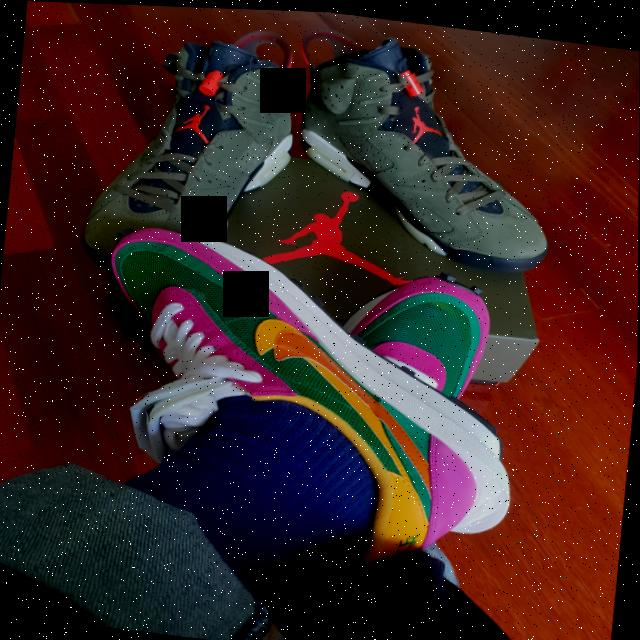shoes: (65, 209, 542, 589), (272, 14, 592, 280), (72, 2, 317, 298), (326, 251, 507, 407)
